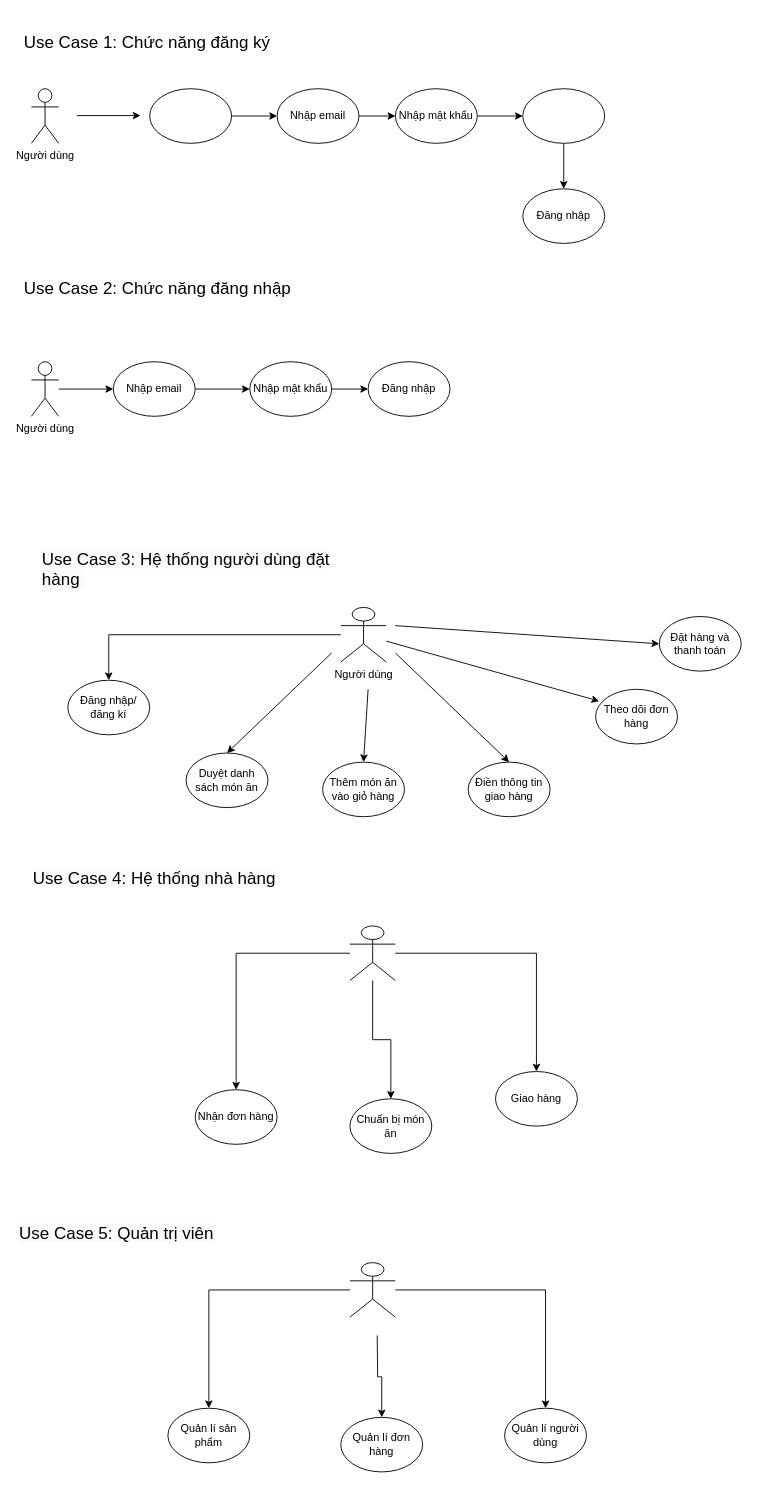
Some shapes in this 757 by 1488 pixel diagram are drawn without their labels. Here are the shapes that lost their labels. From the top down, the box of each, then its label:
(149, 88, 232, 143): Nhập tài khoản
(522, 88, 605, 143): Đăng kí
(349, 925, 395, 981): Nhà hàng
(349, 1262, 395, 1317): Quản trị viên
